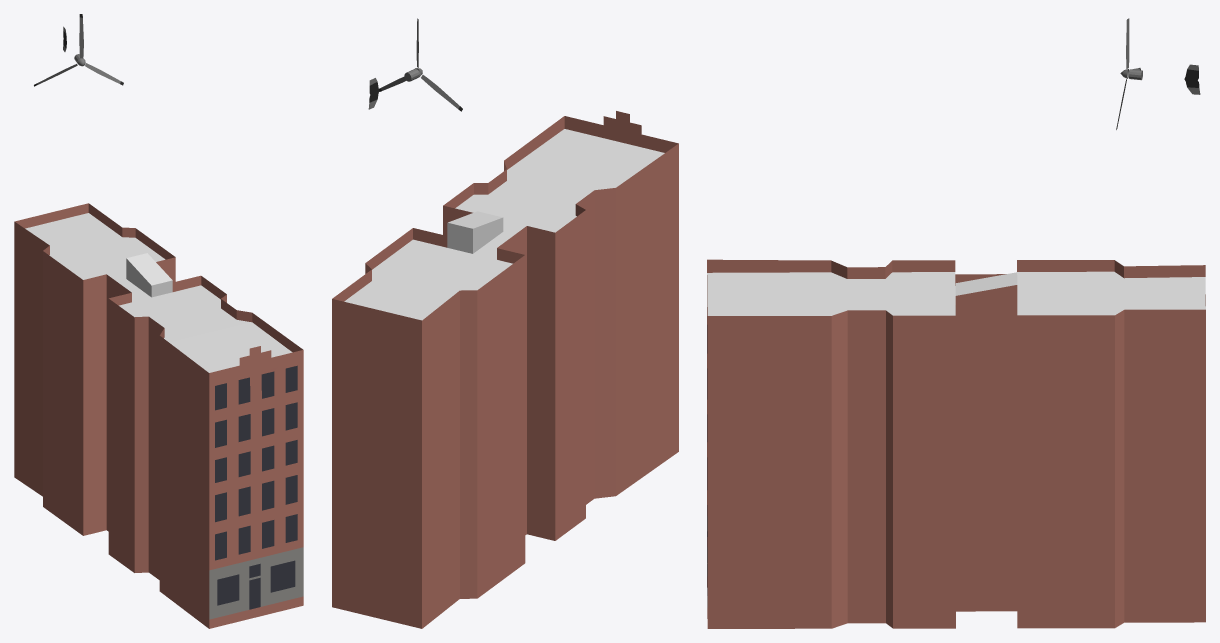
3 renders of one model, left to right at view 1: azimuth 30°, elevation 25°; view 2: azimuth 150°, elevation 25°; view 3: azimuth 270°, elevation 25°, orthographic. The views are drawn at different scales.
Parts seen in each view (by area): view 1: bldg-519; view 2: bldg-519; view 3: bldg-519.
Part boxes in pixels (x1,y1,x2,y2): bldg-519: (14, 203, 303, 628); bldg-519: (332, 111, 678, 628); bldg-519: (707, 259, 1205, 628).
Size of what is drawn, in the model's own units: 7.52 by 36.34 by 28.12.
